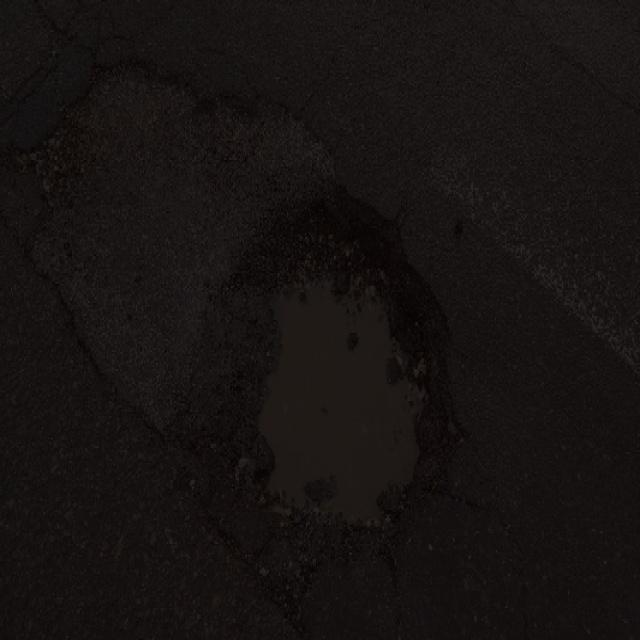Pothole: (200, 185, 460, 553)
